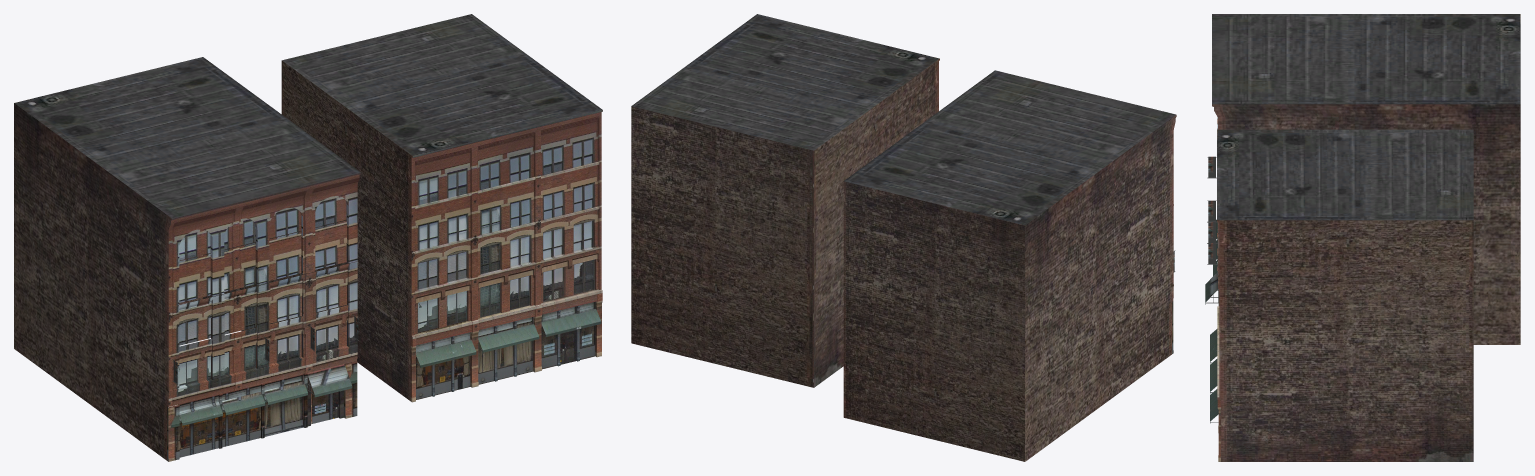
File: chicago_buildings.fbx
The picture shows the model from 3 angles, left to right: view 1: azimuth 30°, elevation 25°; view 2: azimuth 150°, elevation 25°; view 3: azimuth 270°, elevation 25°; orthographic projection. The views are drawn at different scales.
Visible parts, largest first — view 1: Building_2_mainer, Building_1_mainer.001; view 2: Building_2_mainer, Building_1_mainer.001; view 3: Building_1_mainer.001, Building_2_mainer.
Boxes of the visible parts, left/top/right/bottom form: Building_2_mainer: left=14, top=57, right=360, bottom=461; Building_1_mainer.001: left=281, top=14, right=602, bottom=402; Building_2_mainer: left=843, top=70, right=1176, bottom=461; Building_1_mainer.001: left=631, top=14, right=939, bottom=387; Building_1_mainer.001: left=1210, top=129, right=1473, bottom=461; Building_2_mainer: left=1205, top=14, right=1520, bottom=344.
Bounding box in the file's own units: 17609 × 9573 × 11328.
Materials: 2 (2 with a texture image).
